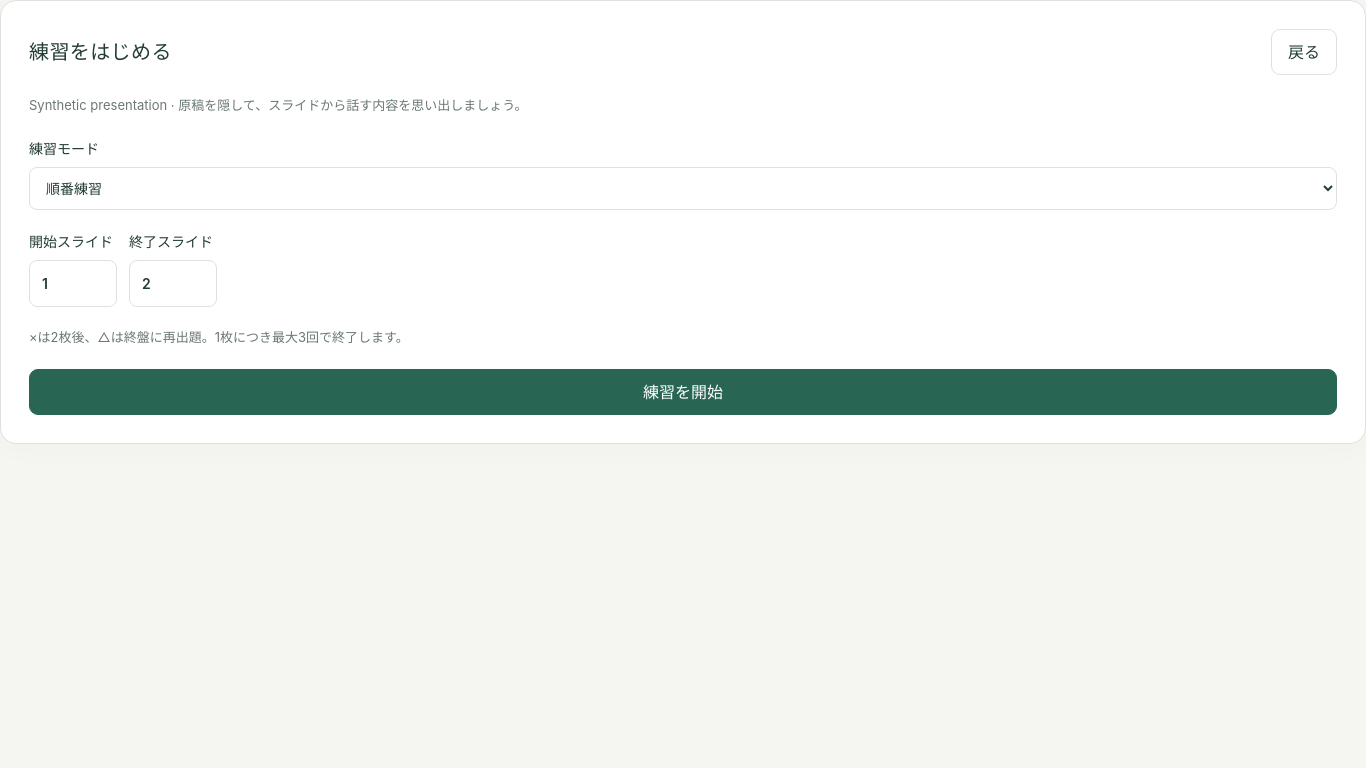
Test: practice screen › hides the script during recall and persists answer checking without a hint
The image size is (1366, 768).
Click the button "練習を開始" at (683, 392), box [29,368,1337,415]
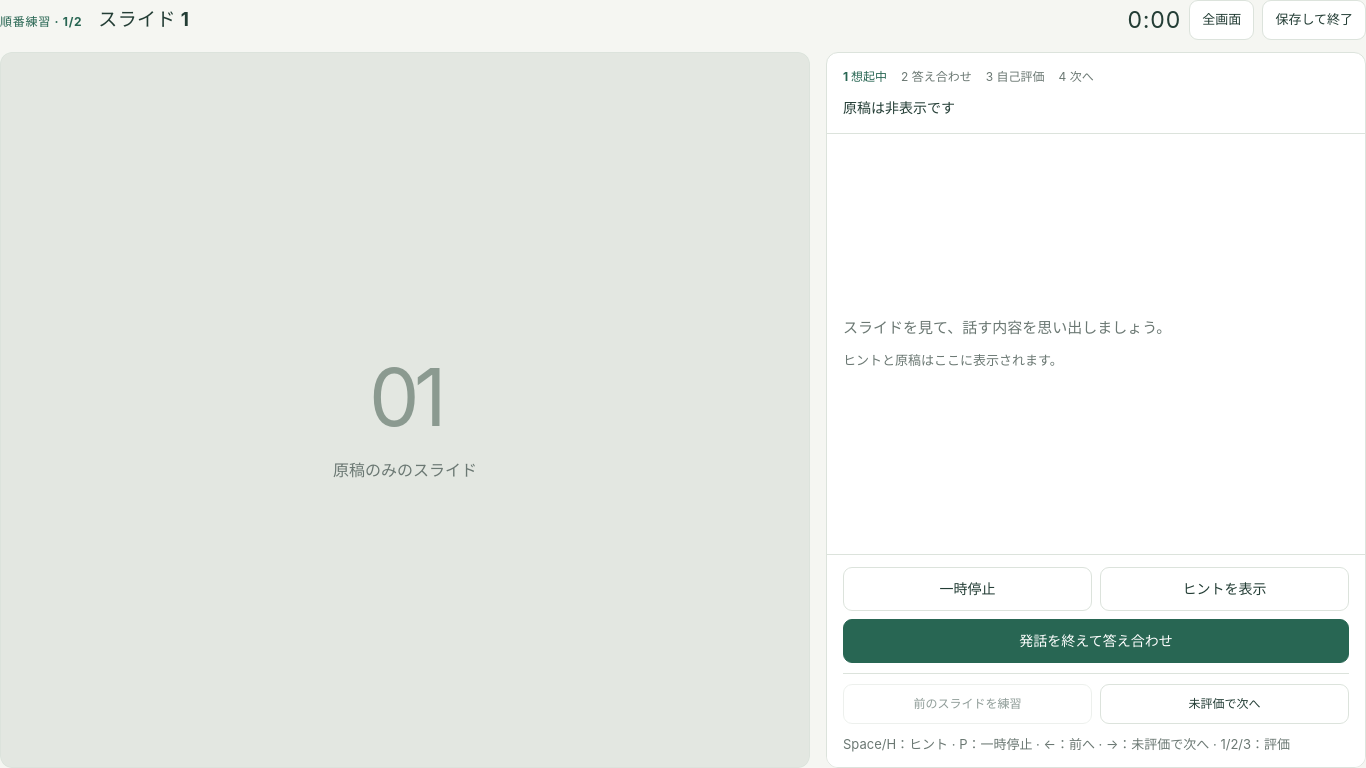
Expected: the text "Private synthetic script 1" is not shown
Expected: the heading "スライド 1" is shown, [98,4,189,36]
Click the button "発話を終えて答え合わせ" at (1096, 641), box [843,619,1349,663]
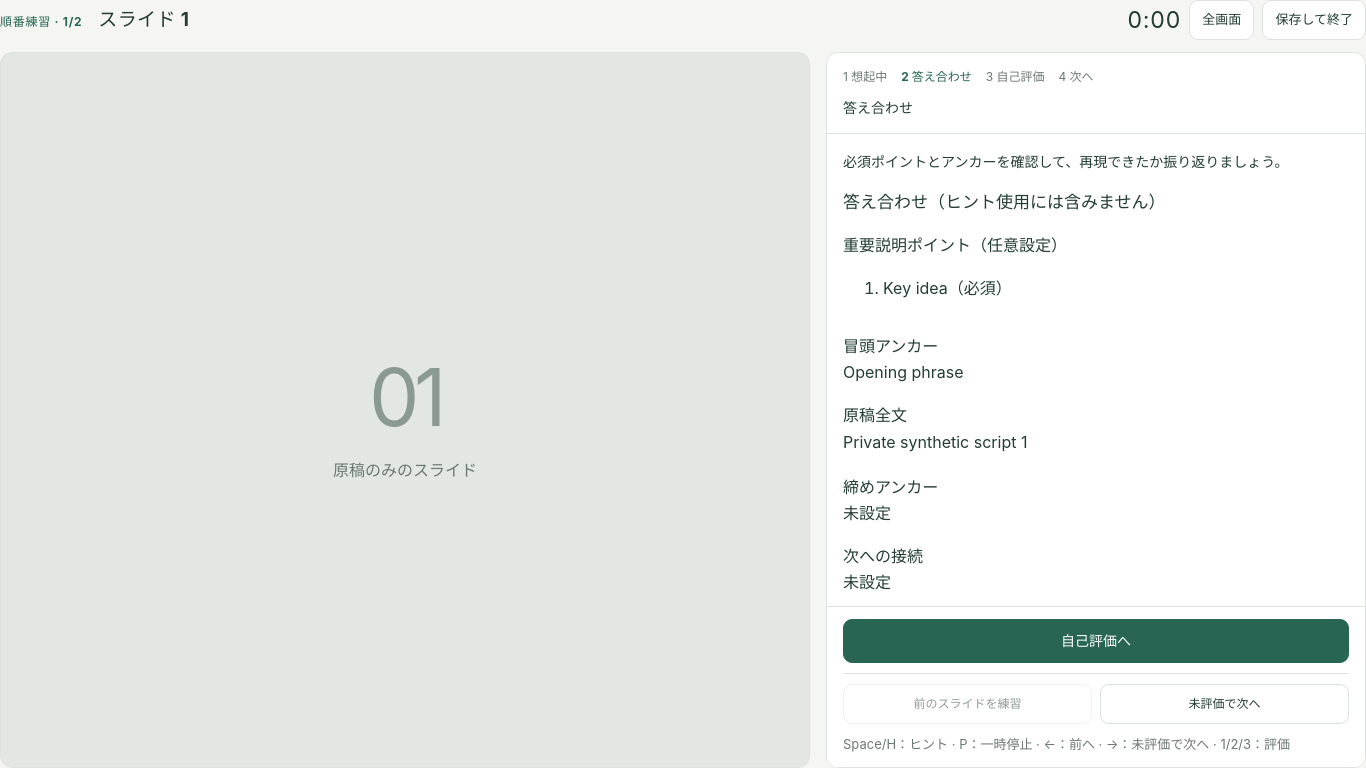
Expected: the text "Private synthetic script 1" is shown, [843,432,1027,452]
Click the button "自己評価へ" at (1096, 641), box [843,619,1349,663]
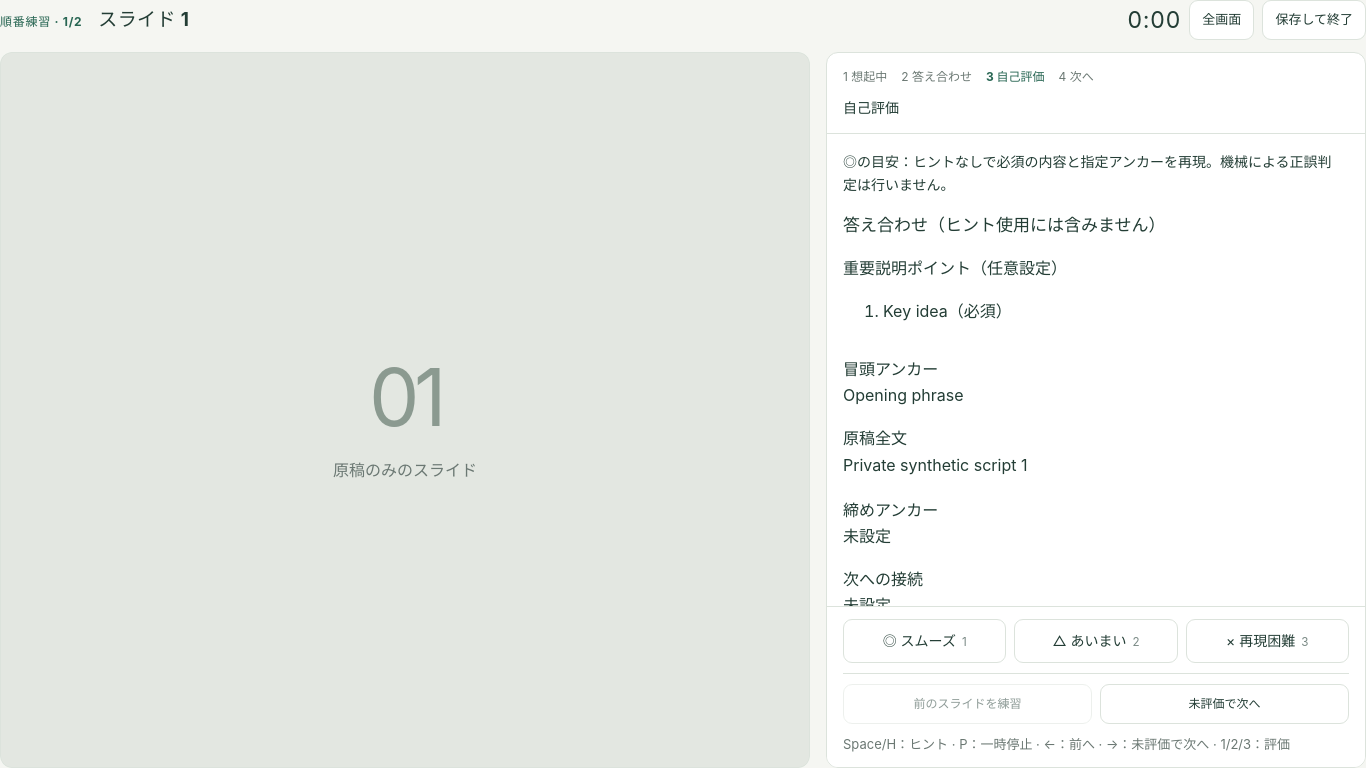
Click the button "◎ スムーズ1" at (925, 641), box [843,619,1006,663]
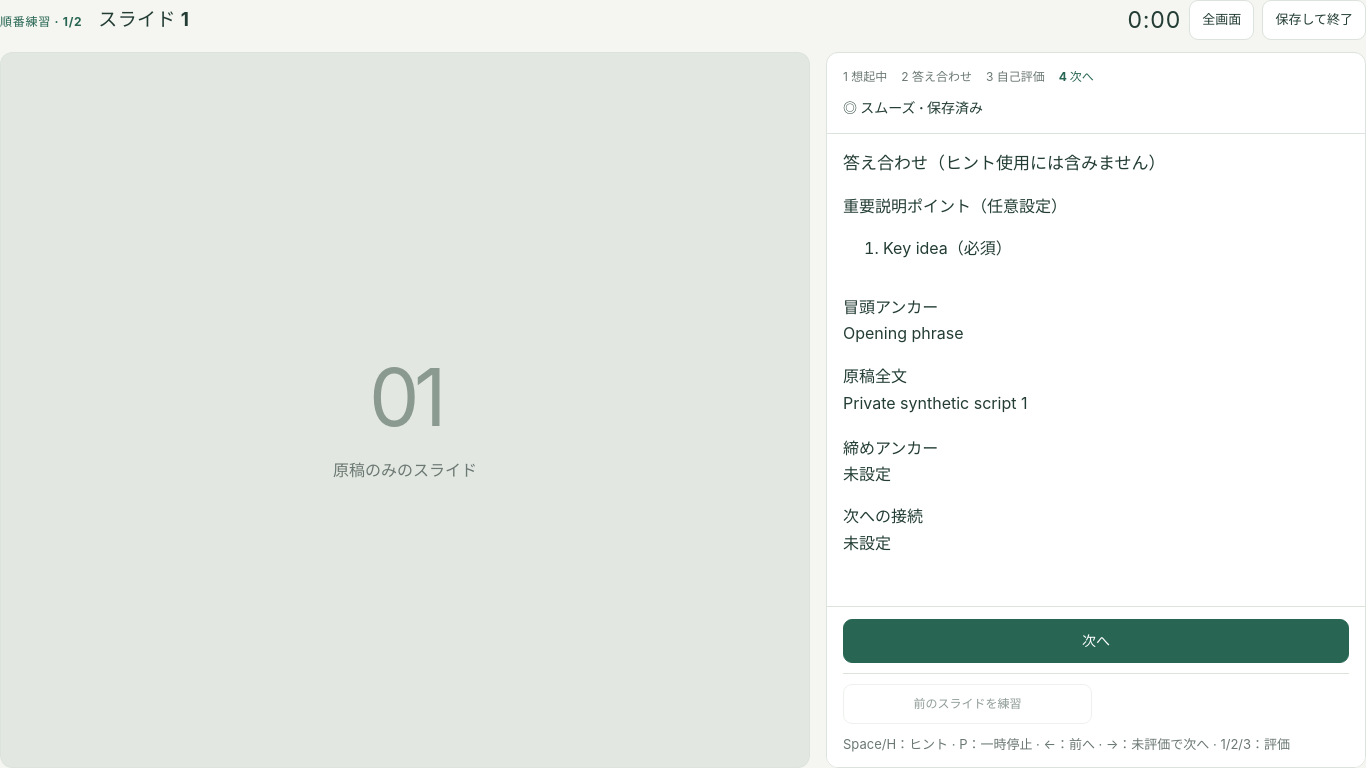
Expected: the button "次へ" is shown
Click the button "次へ" at (1096, 641), box [843,619,1349,663]
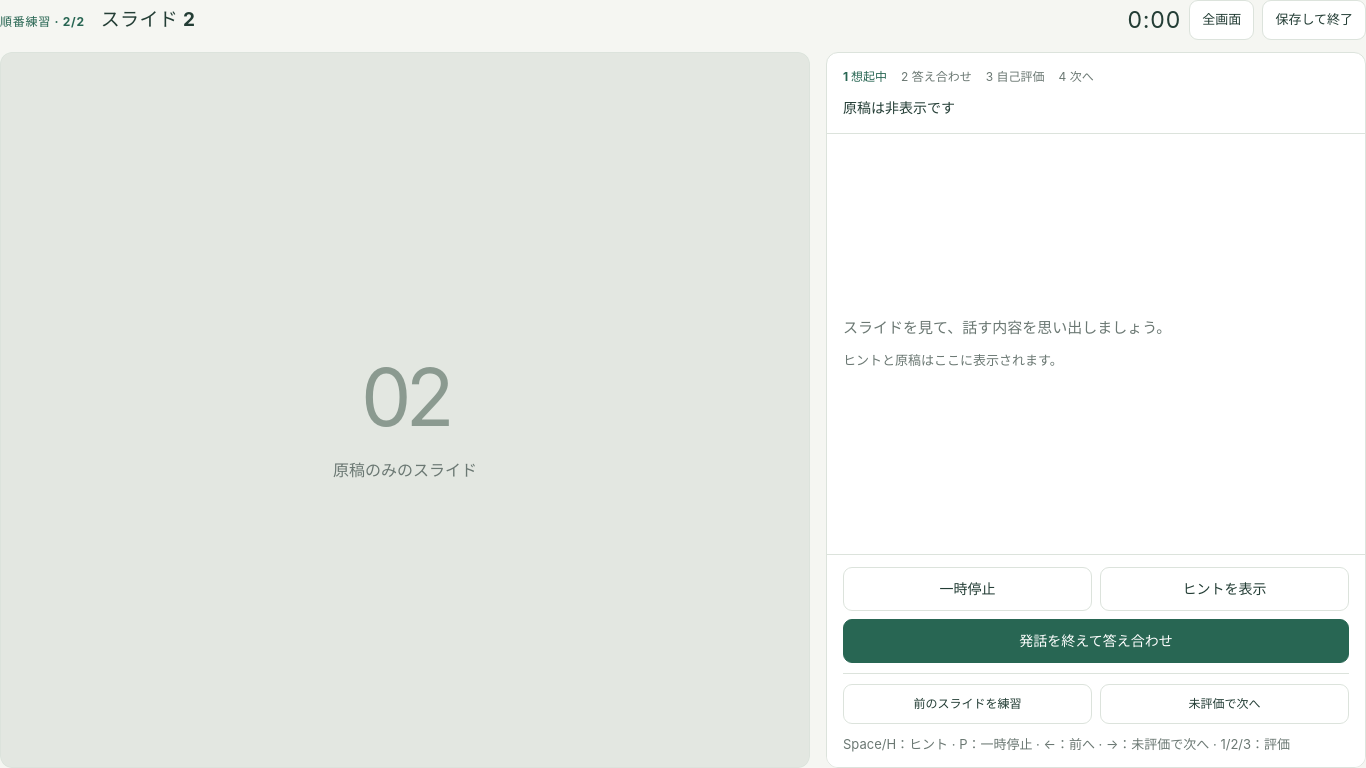
Expected: the heading with test id "practice-slide-number" reads "スライド 2", [101,4,196,36]
